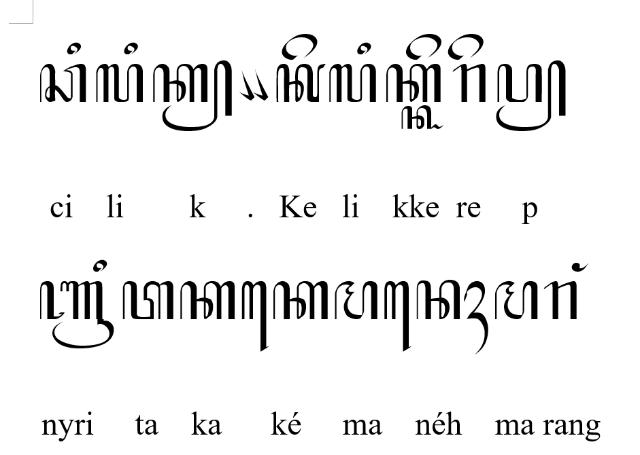-k: (153, 60, 233, 130)
-p: (496, 60, 566, 132)
K: (276, 64, 326, 102)
_h1: (464, 280, 488, 356)
_k: (400, 105, 444, 131)
c: (39, 63, 87, 103)
e: (446, 33, 484, 61), (282, 33, 318, 60), (406, 33, 442, 60)
e1: (384, 280, 412, 354), (241, 281, 269, 353)
i: (66, 42, 82, 56), (123, 42, 139, 56), (92, 260, 108, 272), (357, 42, 371, 54)
k: (178, 279, 236, 321), (386, 62, 442, 104), (272, 281, 330, 321)
kom: (240, 68, 254, 102), (254, 67, 268, 101)
l: (96, 62, 144, 104), (329, 64, 376, 104)
m: (494, 279, 538, 321), (334, 281, 378, 321)
n: (416, 279, 460, 321)
ng: (570, 262, 588, 274)
nyr: (39, 280, 115, 350)
r: (453, 63, 487, 103), (544, 280, 578, 320)
t: (122, 280, 176, 322)
